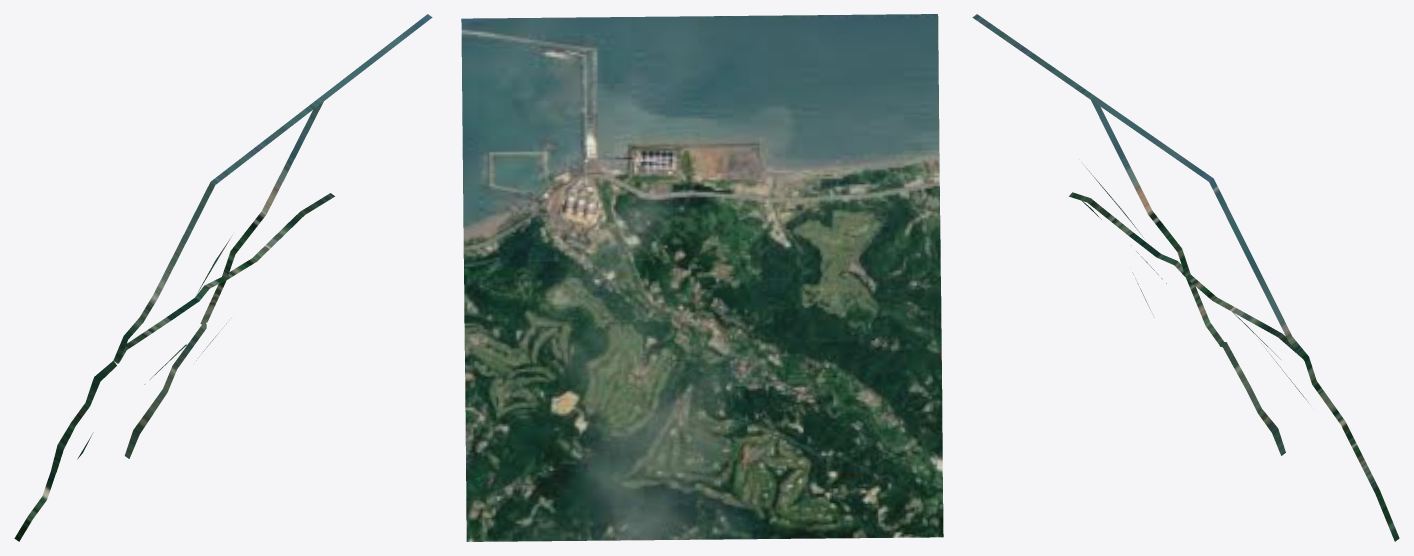
3 views of the same model, side by side, from view 1: azimuth 30°, elevation 25°; view 2: azimuth 150°, elevation 25°; view 3: azimuth 270°, elevation 25° (orthographic). The views are drawn at different scales.
Size of the model in its own units: 4963 by 4415 by 4168.
Materials: 1 (1 with a texture image).
